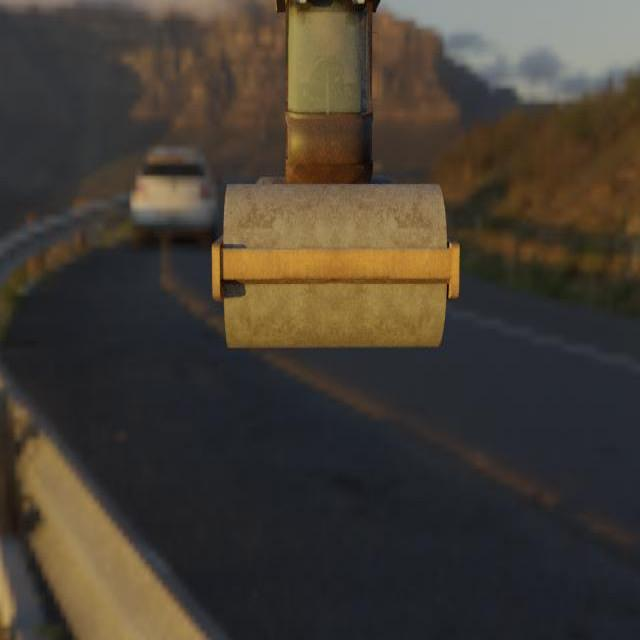Roller: (211, 0, 459, 349)
